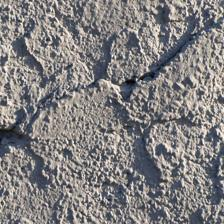Crack: (58, 7, 154, 86)
